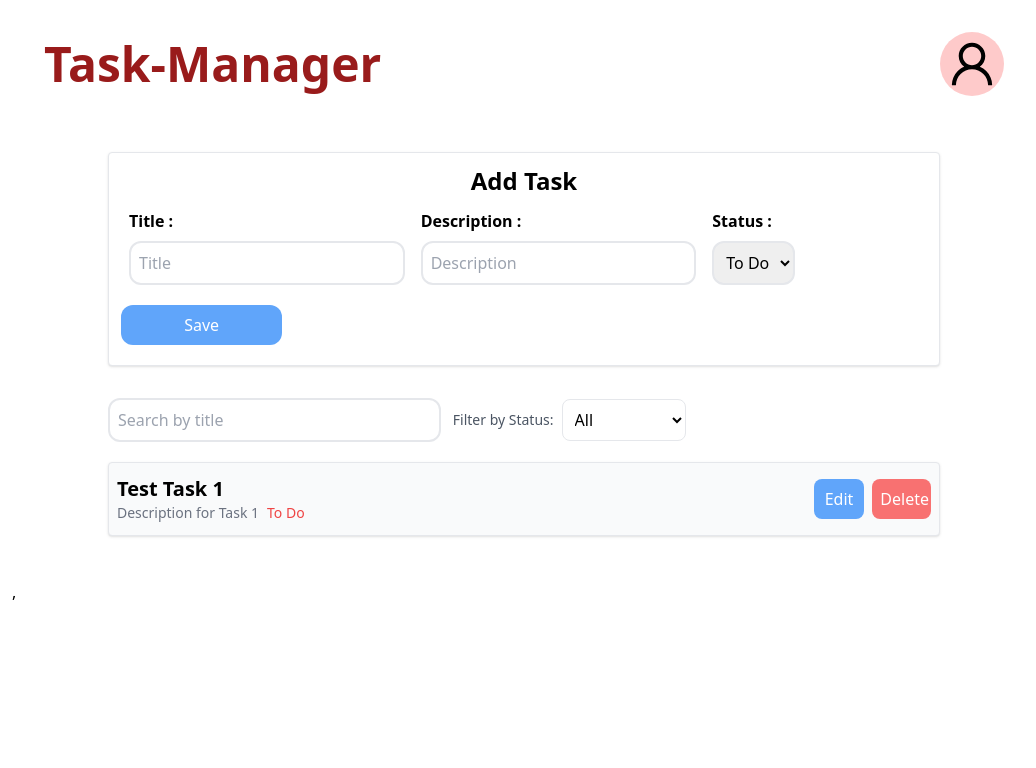
it: Todo component › creates a new task
Expected: the text "Test Task 1" is shown, 117,475 -> 224,502
Type "New Task" into the field with placeholder "Title" at (267, 263), box 129,241 -> 405,285
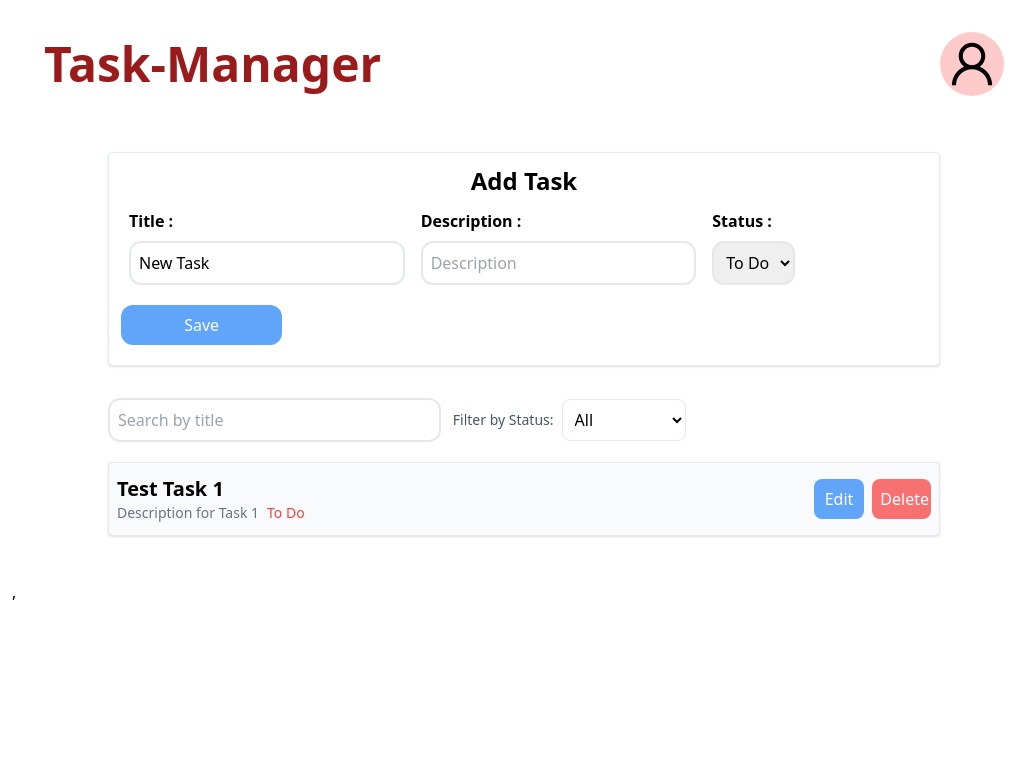
Type "Description for the new task" into the field with placeholder "Description" at (558, 263), box 421,241 -> 696,285
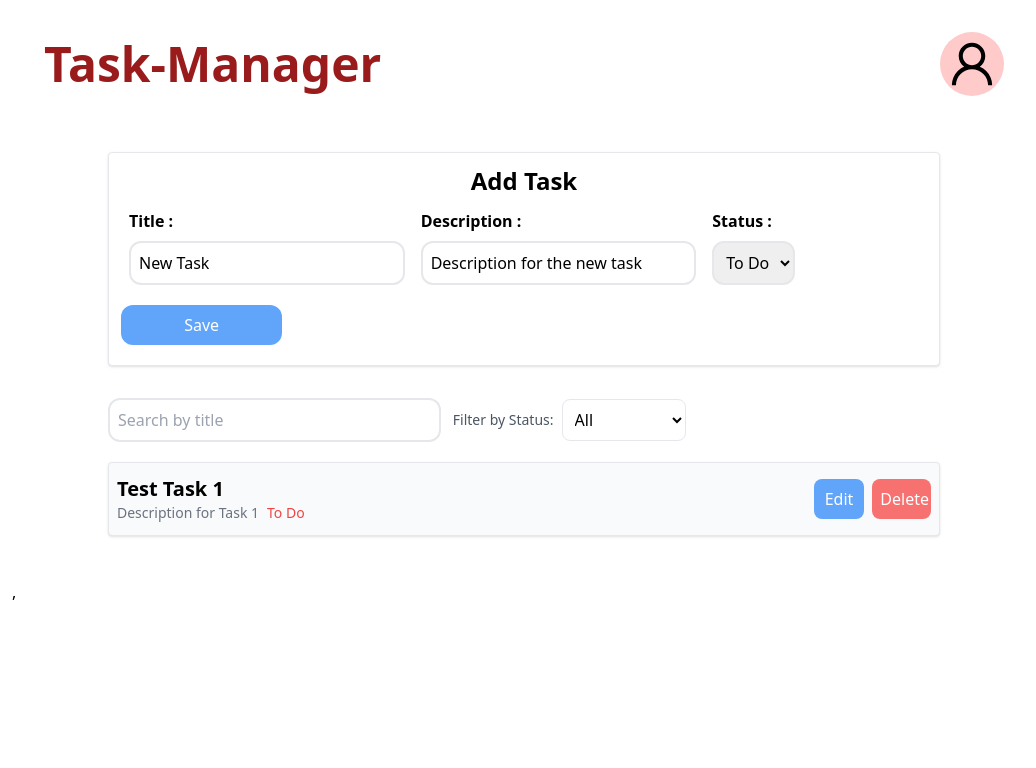
Click the button "Save" at (202, 325), box 121,305 -> 282,345
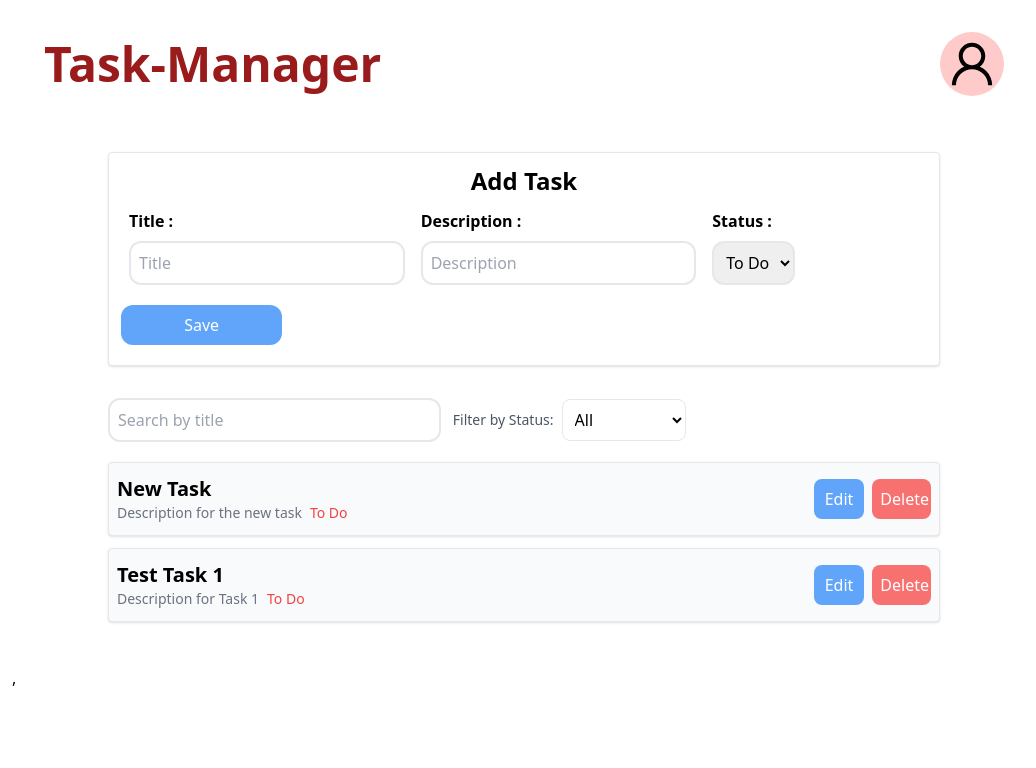
Result: the text "New Task" is shown at 117,475 -> 211,502
